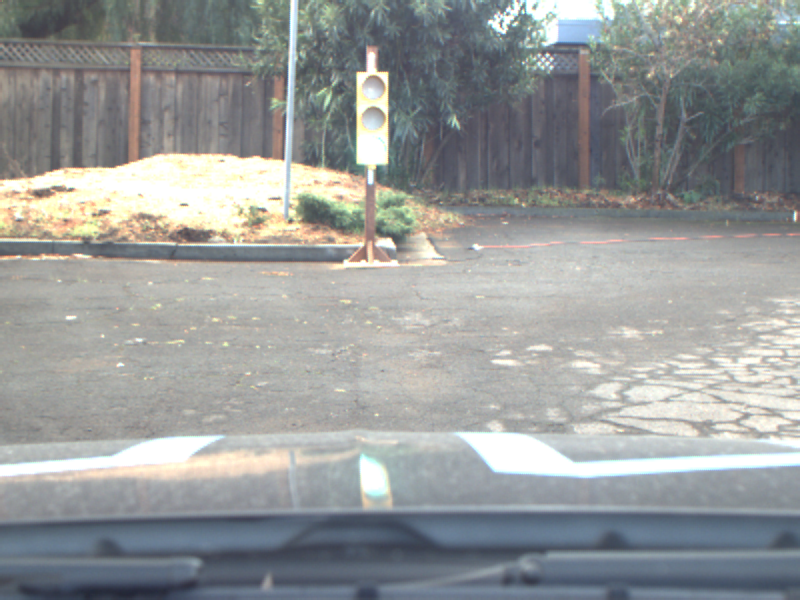Green: (355, 71, 389, 166)
